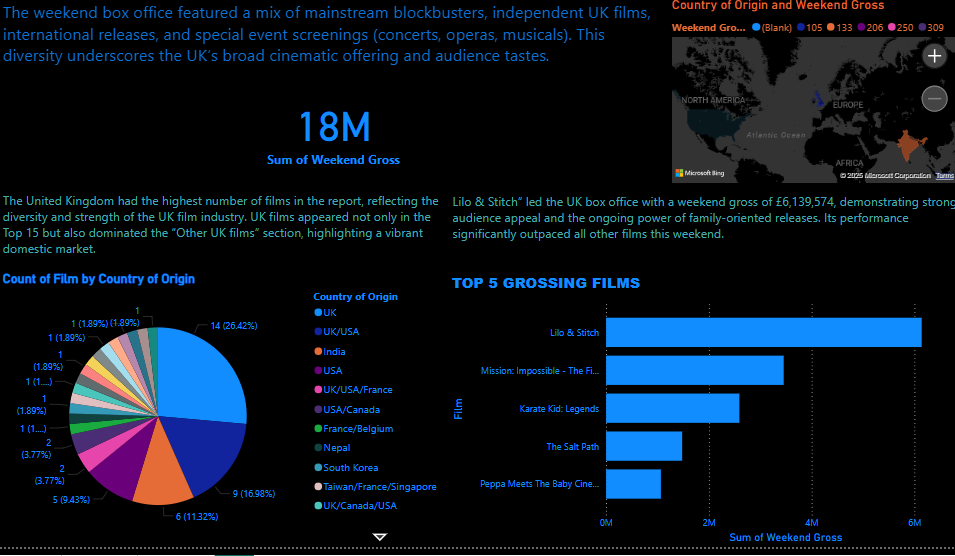

The dashboard page shown, as its layout file describes it:
{"tool":"powerbi","page":{"name":"Page 1","canvas":[1280,720],"ordinal":0},"visuals":[{"type":"clusteredBarChart","title":"TOP 5 GROSSING FILMS ","fields":{"Category":["cleaned data.Film"],"Y":["Sum(cleaned data.Weekend Gross)"]},"box":[587.8,360,692.1,360],"z":0},{"type":"pieChart","fields":{"Category":["cleaned data.Country of Origin"],"Y":["CountNonNull(cleaned data.Film)"]},"box":[0,358.5,587.8,361.5],"z":1000},{"type":"card","fields":{"Values":["Sum(cleaned data.Weekend Gross)"]},"box":[0,98.4,875.8,151.3],"z":2000},{"type":"filledMap","fields":{"Category":["cleaned data.Country of Origin"],"Series":["cleaned data.Weekend Gross"]},"box":[875.8,0,404.1,249.8],"z":3000},{"type":"textbox","title":"INSIGHT ","box":[587.8,249.8,692.1,110.2],"z":4000},{"type":"textbox","box":[0,249.8,587.8,108.7],"z":5000},{"type":"textbox","box":[0,0,875.8,98.4],"z":6000}]}

Visuals, with their boxes on the page's 1280x720 design canvas (x1, y1, x2, y2). These are canvas units, not pixel positions in the 955x556 screenshot, which may show the page scaled, cropped or inside an application window:
"TOP 5 GROSSING FILMS " clusteredBarChart: box=[588, 360, 1280, 720]
pieChart - cleaned data.Country of Origin x CountNonNull(cleaned data.Film): box=[0, 358, 588, 720]
card - Sum(cleaned data.Weekend Gross): box=[0, 98, 876, 250]
filledMap - cleaned data.Country of Origin x cleaned data.Weekend Gross: box=[876, 0, 1280, 250]
"INSIGHT " textbox: box=[588, 250, 1280, 360]
textbox: box=[0, 250, 588, 358]
textbox: box=[0, 0, 876, 98]
